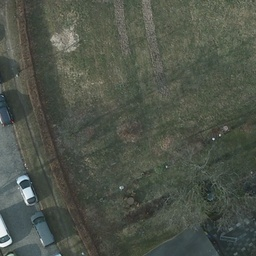car: (30, 212, 56, 248), (17, 172, 35, 206), (1, 94, 13, 129), (1, 57, 11, 91), (1, 215, 10, 248)
